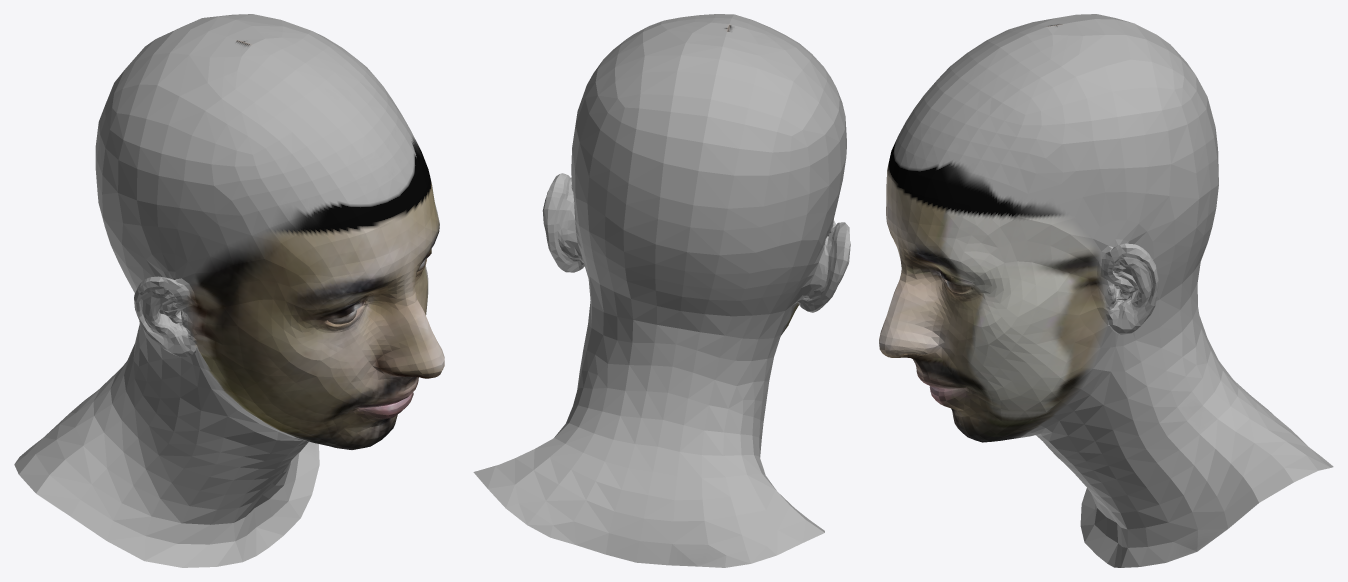
File: ezgif-frame-038.obj
3 views of the same model, side by side, from view 1: azimuth 30°, elevation 25°; view 2: azimuth 150°, elevation 25°; view 3: azimuth 270°, elevation 25° (orthographic). The views are drawn at different scales.
Bounding box in the file's own units: 0.1966 × 0.3263 × 0.2615.
Materials: 1 (1 with a texture image).
